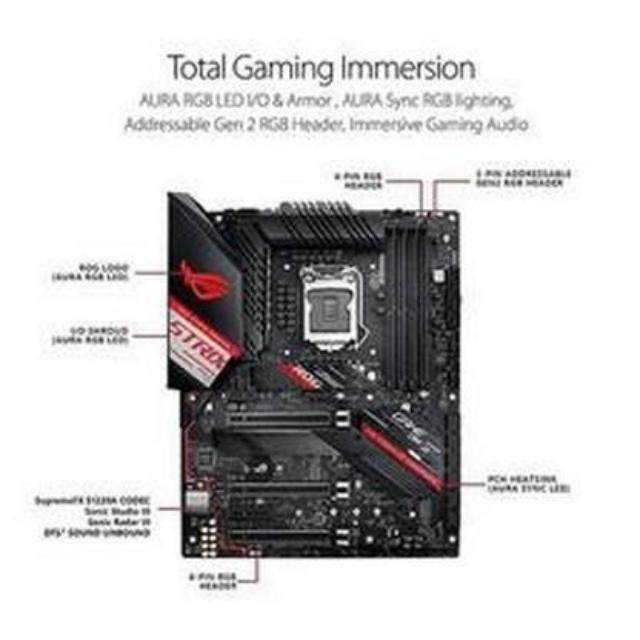Mainboard: (166, 193, 464, 564)
